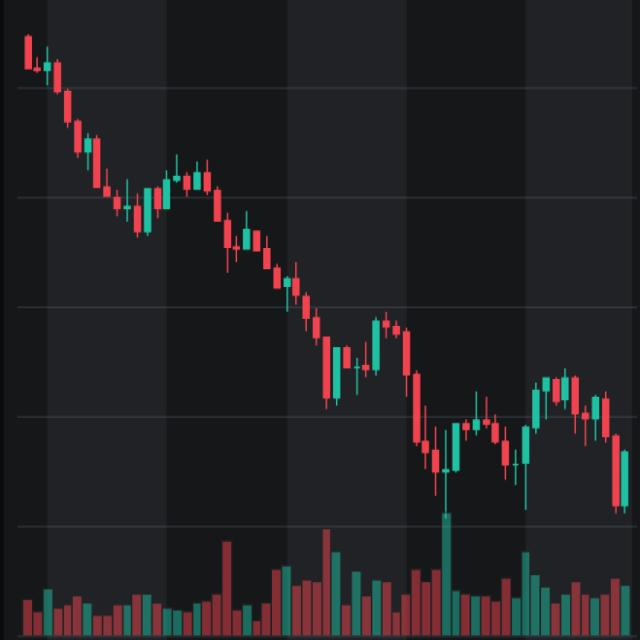Channel-down: (0, 22, 639, 604)
